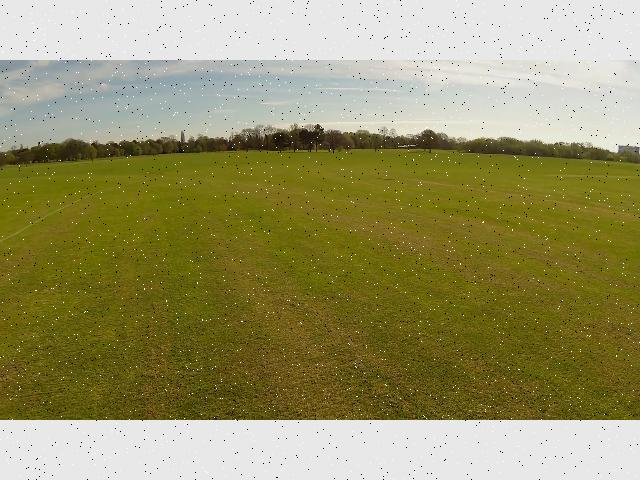Anti-Drone: (397, 139, 419, 153)
